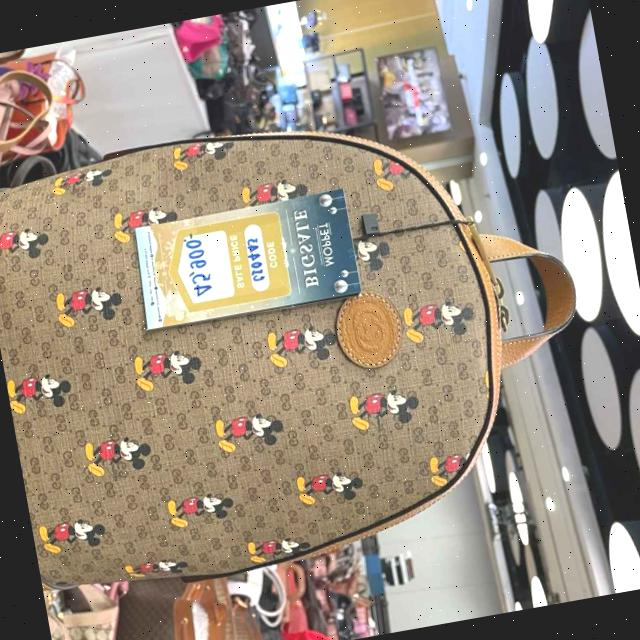handbag: (0, 79, 532, 614)
